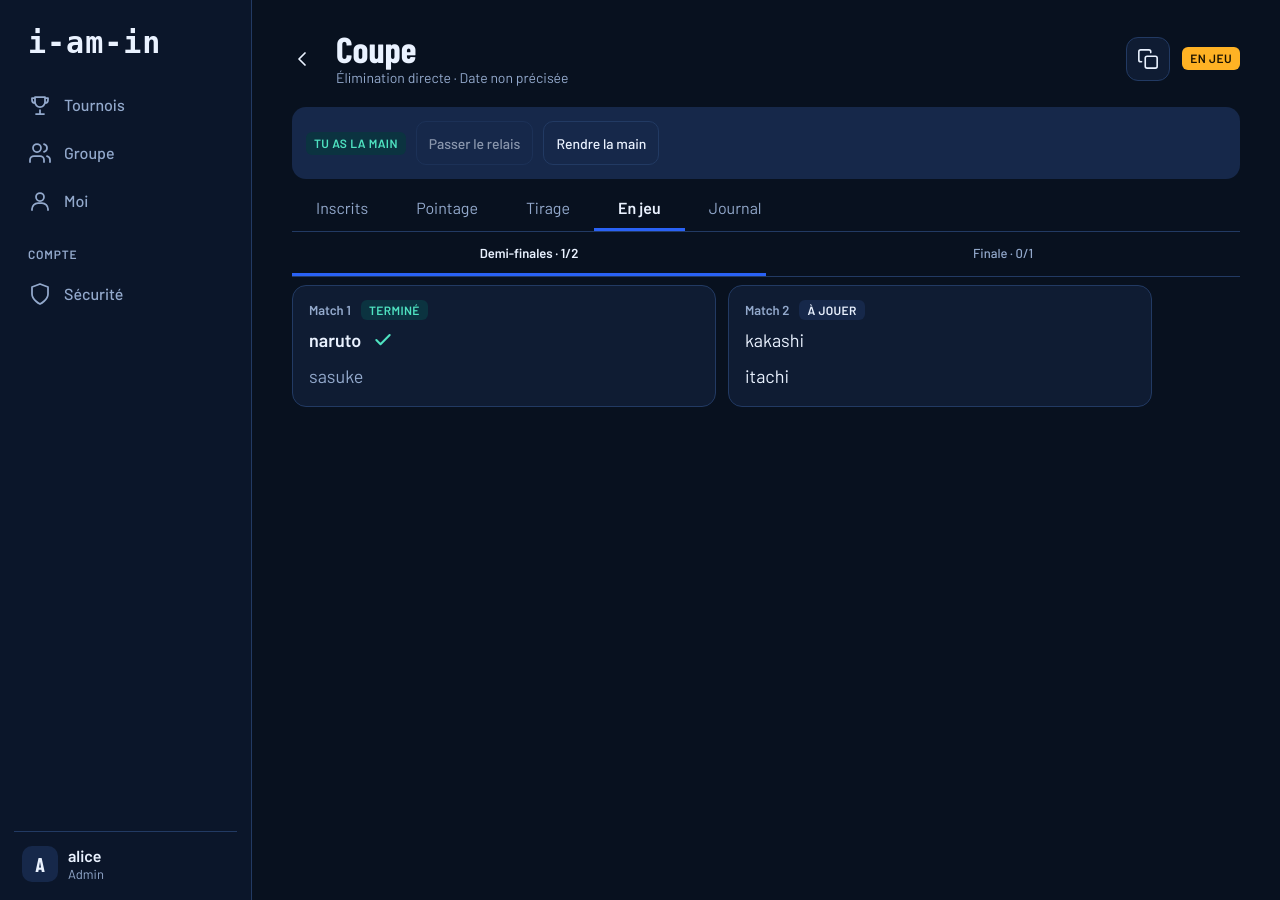
Test: élimination directe : le vainqueur, sans score › un clic désigne le vainqueur, puis la finale s’ouvre toute seule avec une annonce
# Un match ne se saisit pas avec un score : on désigne le vainqueur.
Step 1. Click the button with aria-label "Désigner le vainqueur du match 2" → x=767, y=310, box [728,285,1152,407]
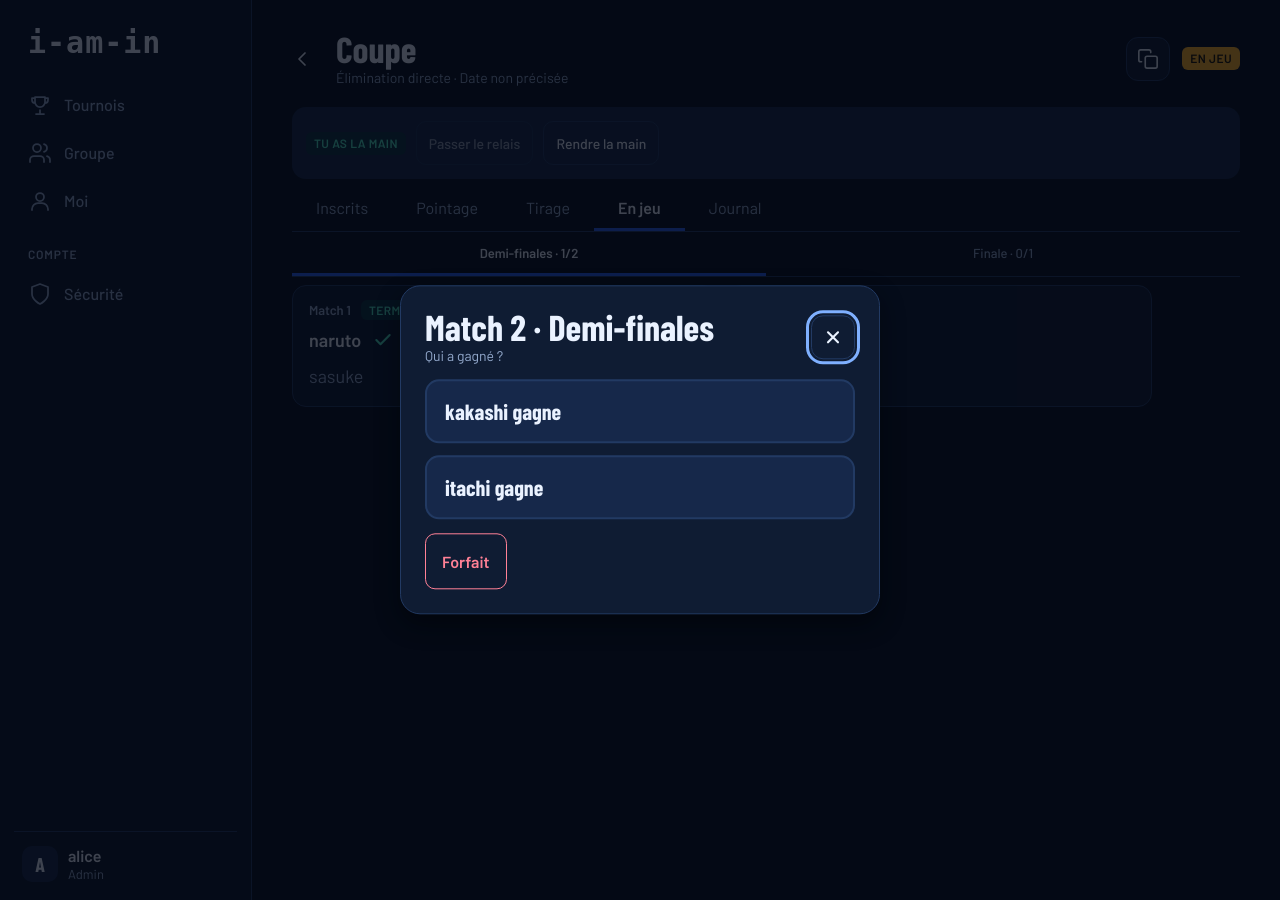
Step 2. Click the button "kakashi gagne" → x=503, y=412, box [425,380,855,444]
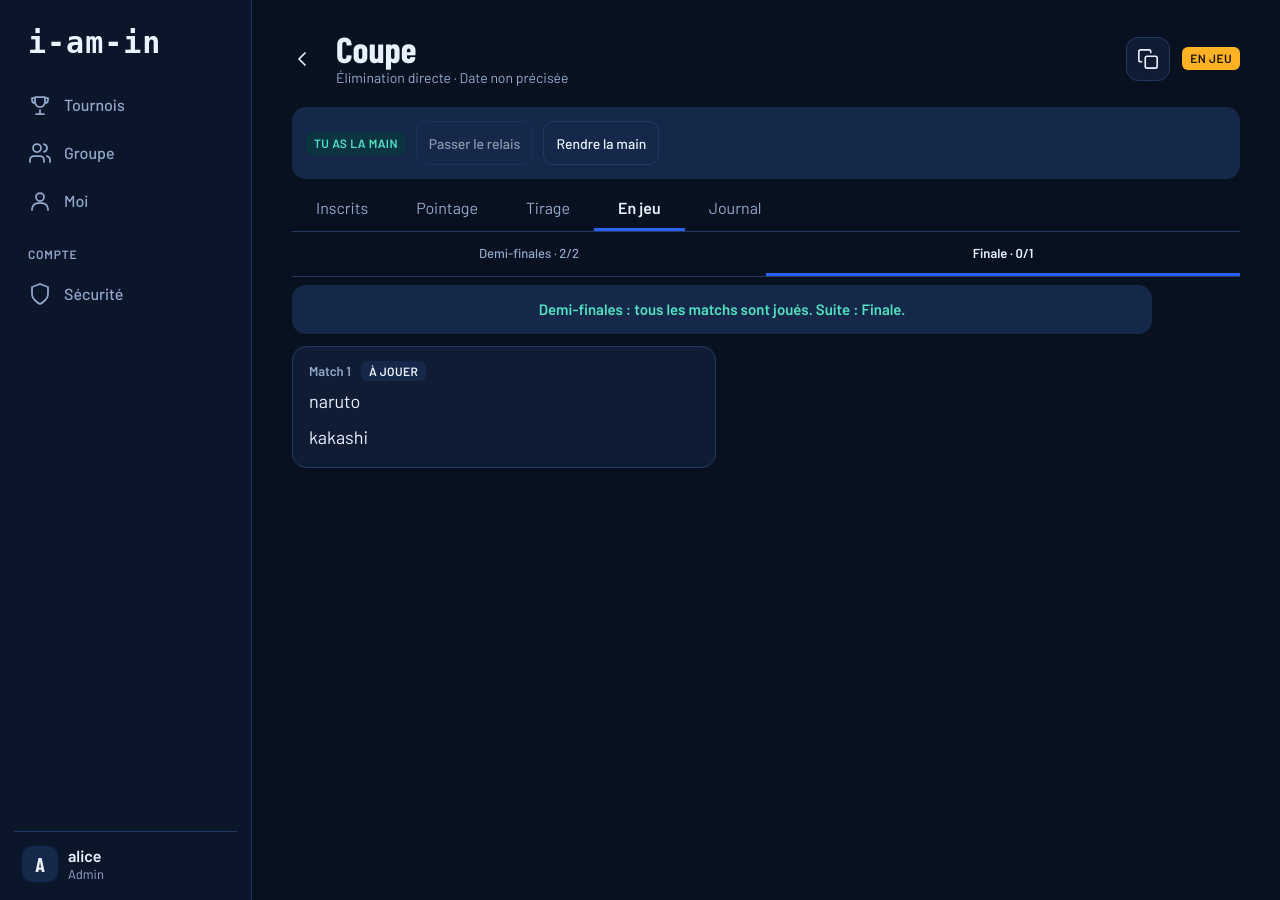
Result: the text "Demi-finales : tous les matchs sont joués. Suite : Finale." is shown at [292,285,1152,334]
Result: the button with aria-label "Désigner le vainqueur du match 1" is shown at [292,346,716,468]
